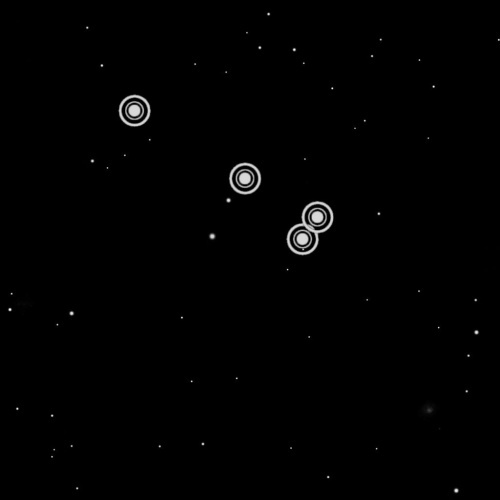sagitta: (112, 87, 337, 260)
